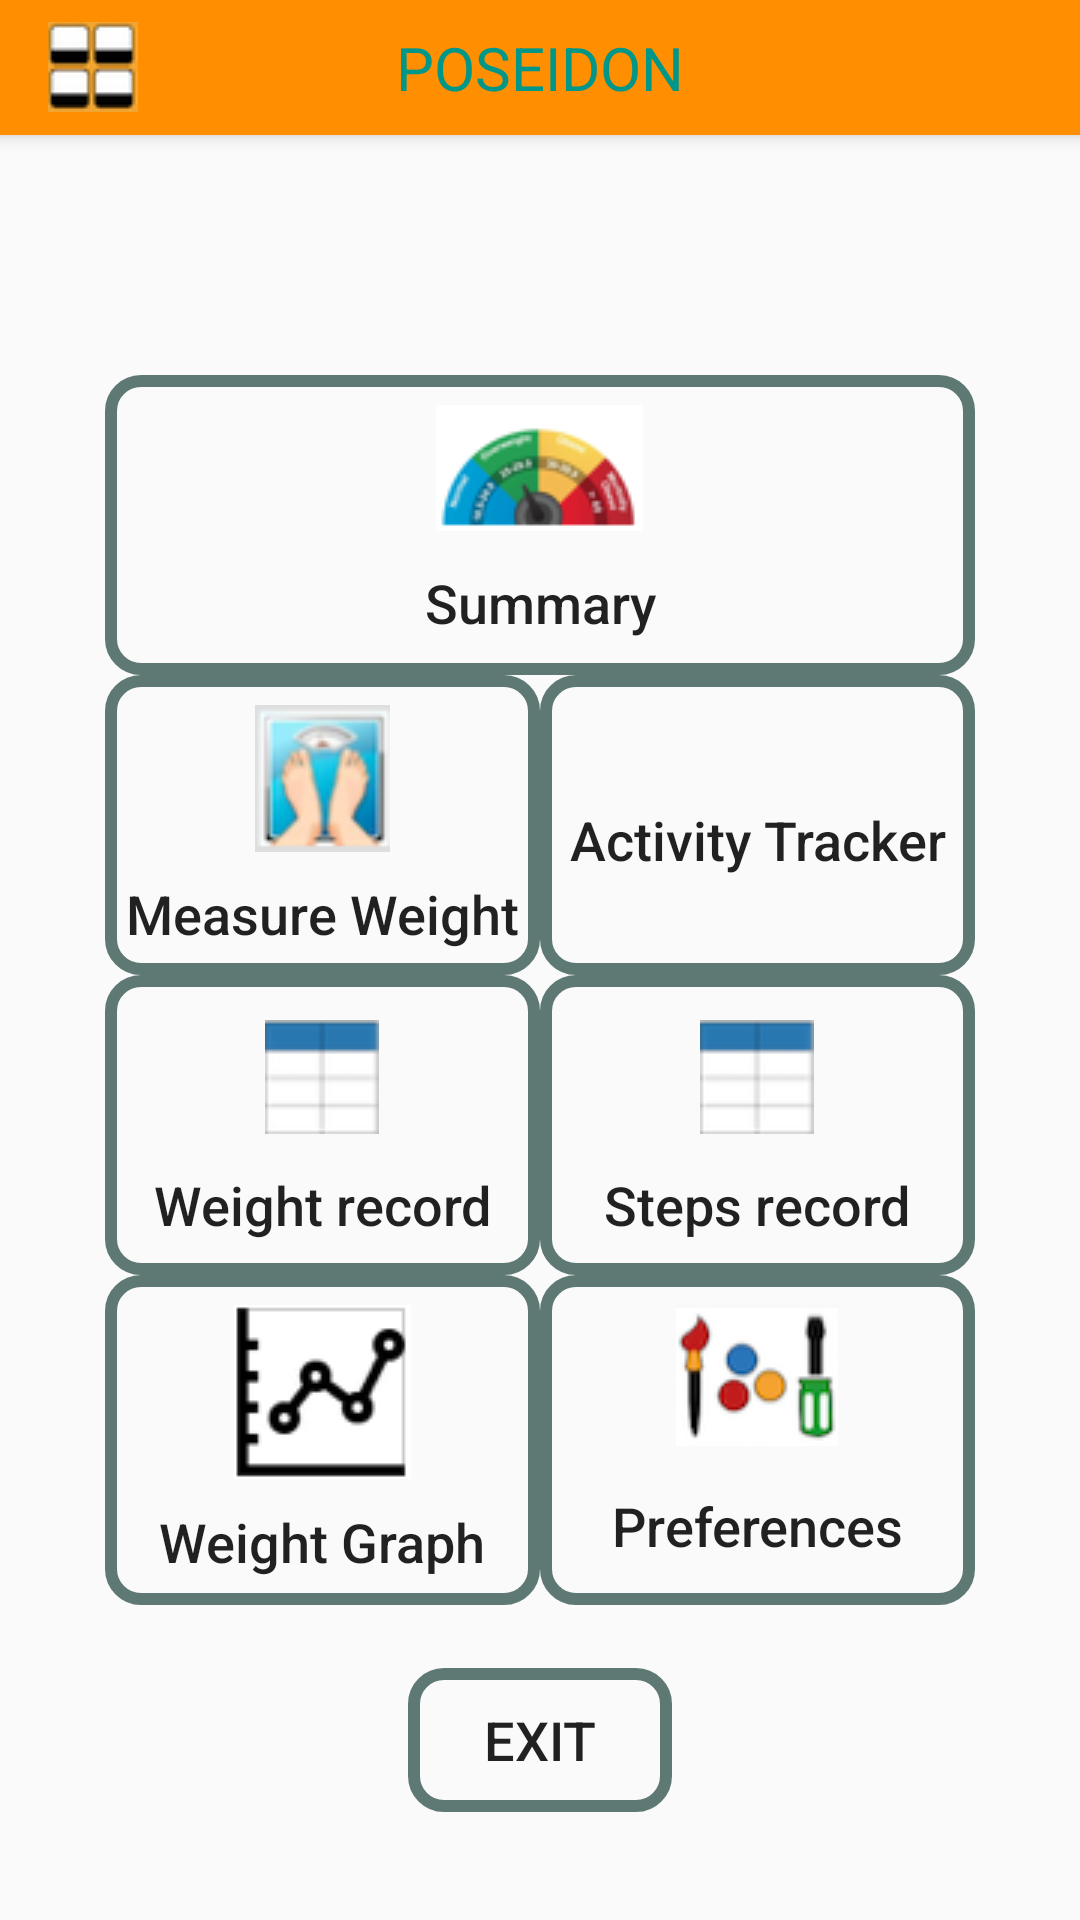

Icon click points for this 1080×1920 phone screenshot, format point (x, y):
homebutton: point (93, 67)
